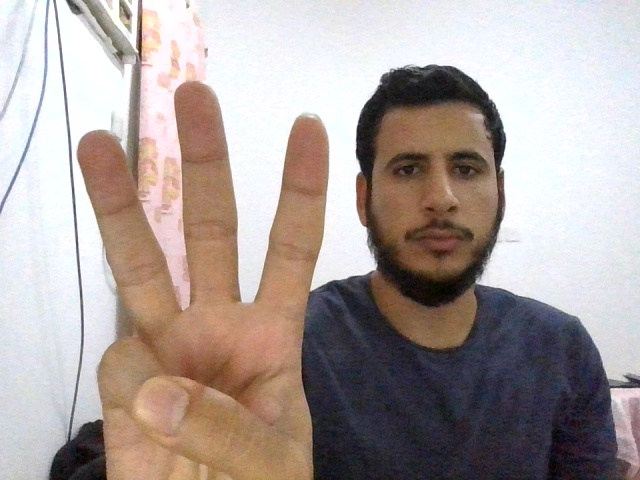Three: (76, 78, 328, 480)
